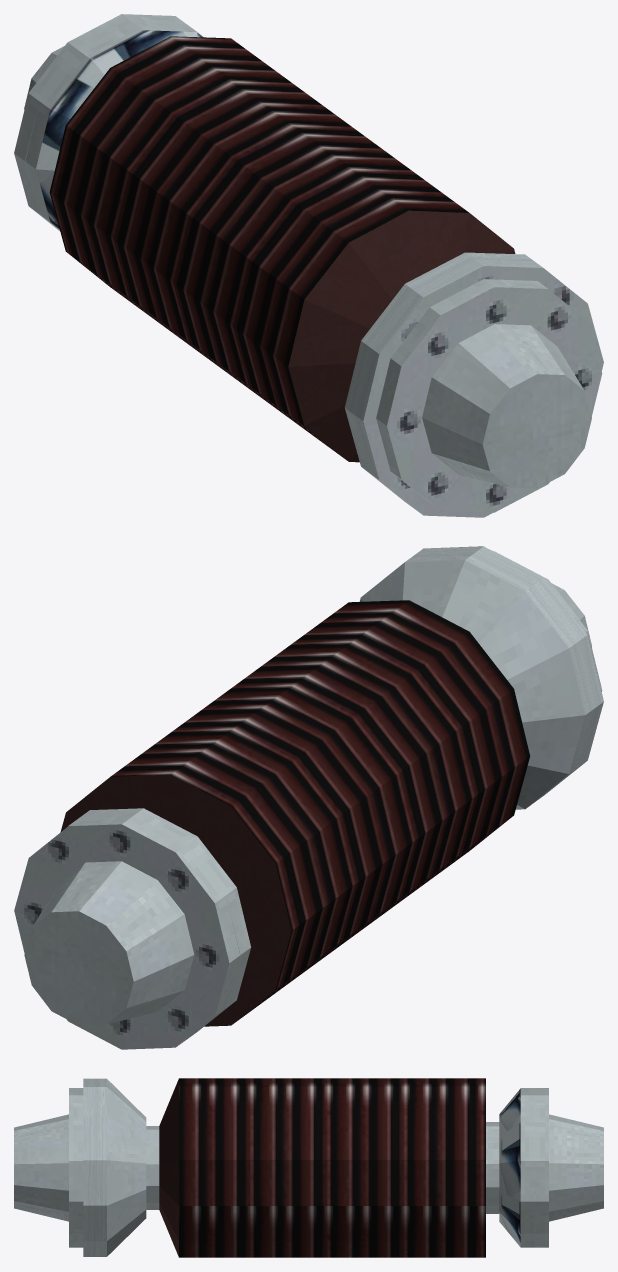
Rendered from zcjyz001-geode.glb.
3 renders of one model, top to bottom at view 1: azimuth 30°, elevation 25°; view 2: azimuth 150°, elevation 25°; view 3: azimuth 270°, elevation 25°, orthographic. The views are drawn at different scales.
Visible parts, largest first — view 1: Node; view 2: Node; view 3: Node.
Boxes of the visible parts, <box> form: Node: <box>14,14,603,517</box>; Node: <box>14,546,603,1049</box>; Node: <box>14,1078,603,1257</box>.
Bounding box in the file's own units: 0.1671 × 0.1671 × 0.5482.
5 materials, 5 textured.
